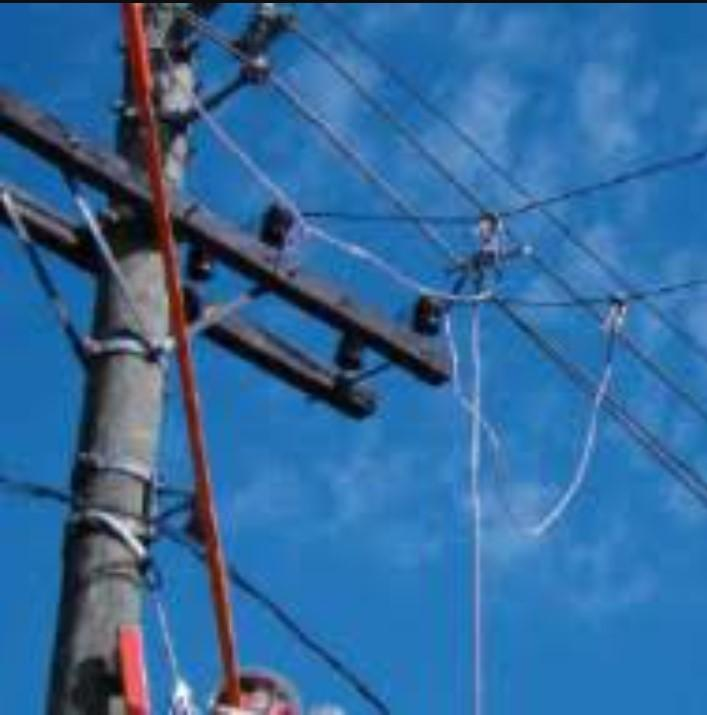Vara_Manobra: (119, 4, 242, 715)
